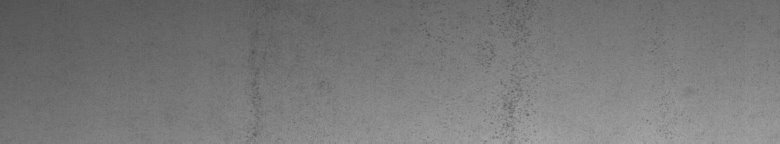ib: (419, 4, 536, 131)
